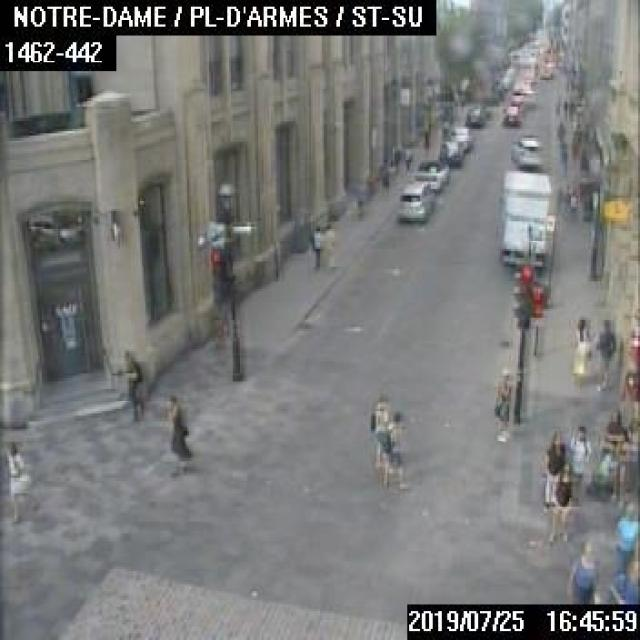pedestrian: (610, 494, 638, 584), (111, 349, 144, 420), (546, 459, 573, 539), (4, 436, 29, 520), (542, 420, 566, 503), (567, 540, 598, 602), (567, 424, 591, 504), (367, 393, 387, 487), (569, 315, 594, 389), (167, 391, 189, 473), (385, 402, 404, 496), (593, 316, 617, 390), (606, 556, 638, 602), (491, 366, 509, 442), (321, 222, 334, 268), (311, 225, 321, 265), (353, 187, 365, 220), (378, 160, 389, 184), (402, 144, 411, 169), (420, 122, 429, 144)
vehicle: (496, 167, 551, 269), (394, 181, 430, 220), (412, 157, 448, 191), (509, 133, 541, 168), (437, 138, 468, 166), (500, 100, 524, 122), (450, 124, 472, 148), (534, 53, 552, 78), (464, 105, 484, 125)
